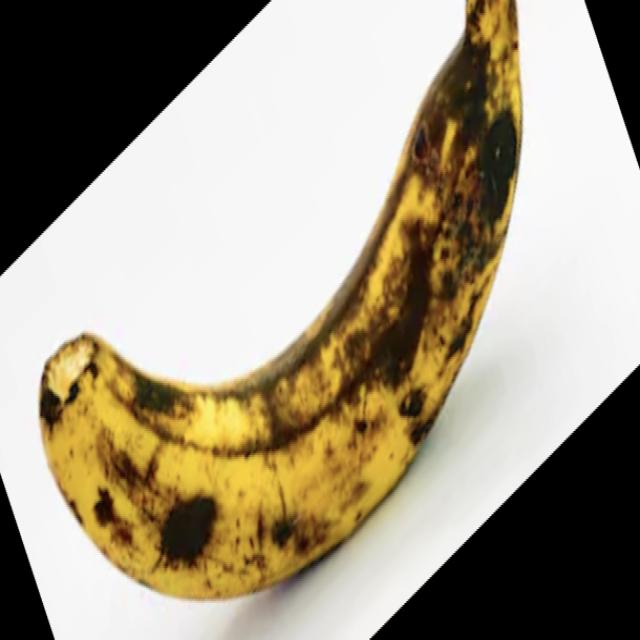overripe: (39, 0, 527, 603)
